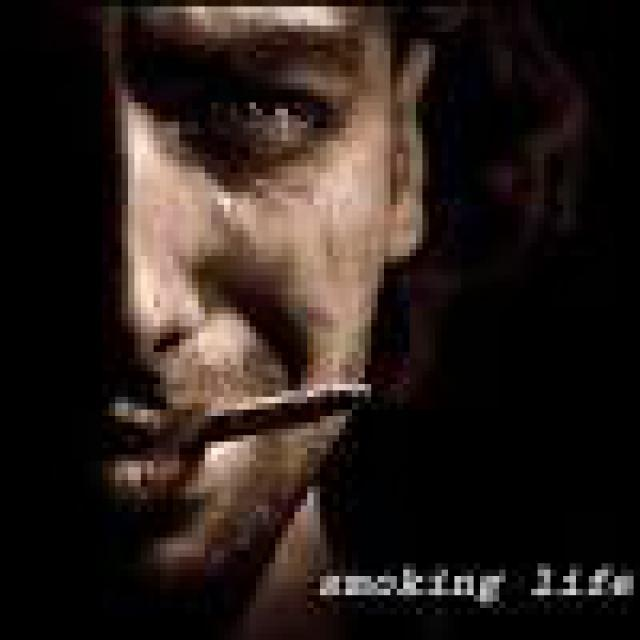cigarette: (151, 379, 381, 462)
